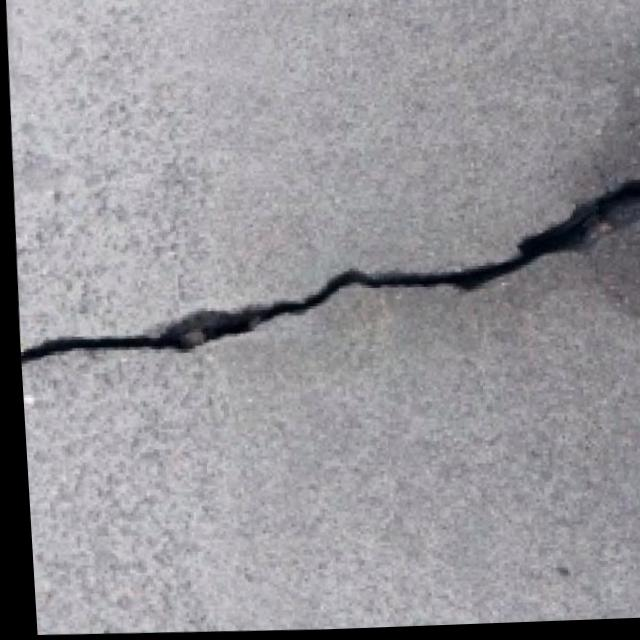Crack: (8, 145, 640, 391)
